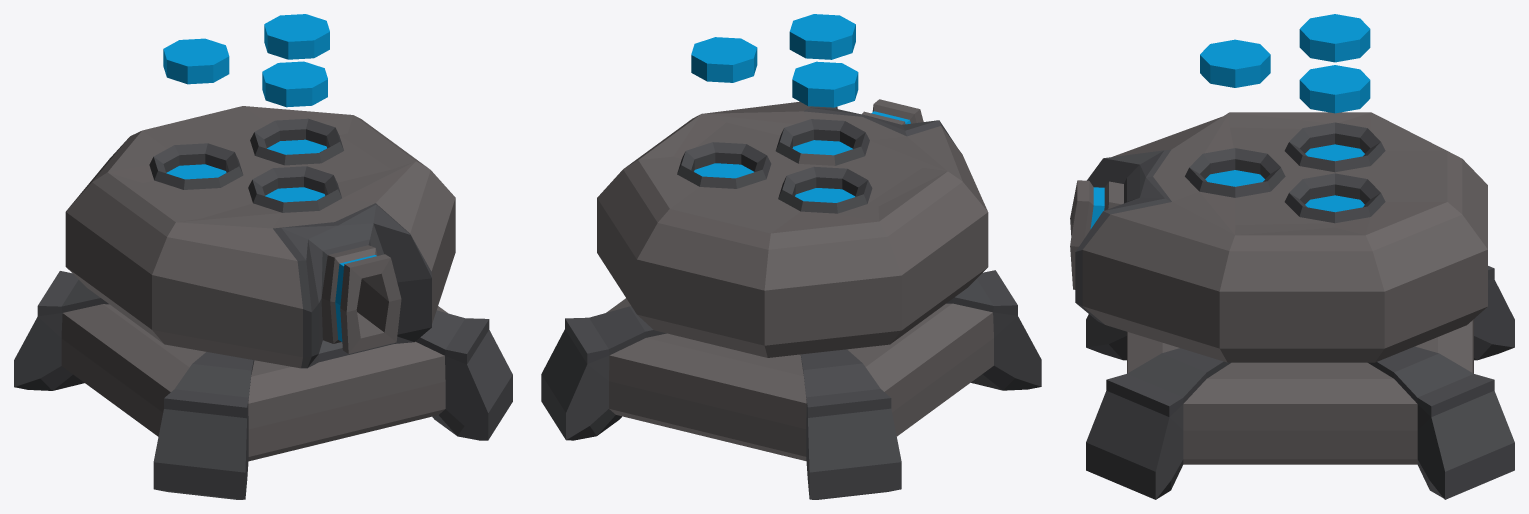
Rendered from Tourelle.fbx.
3 renders of one model, left to right at view 1: azimuth 30°, elevation 25°; view 2: azimuth 150°, elevation 25°; view 3: azimuth 270°, elevation 25°, orthographic. The views are drawn at different scales.
Parts seen in each view (by area): view 1: TourelleUp, Tourelle, TourellePart3, TourellePart1, TourellePart2; view 2: TourelleUp, Tourelle, TourellePart3, TourellePart1, TourellePart2; view 3: TourelleUp, Tourelle, TourellePart1, TourellePart3, TourellePart2.
Part boxes in pixels (x1,y1,x2,y2): TourelleUp: [65, 106, 455, 368]; Tourelle: [14, 271, 512, 499]; TourellePart3: [163, 38, 229, 84]; TourellePart1: [264, 14, 329, 59]; TourellePart2: [262, 61, 327, 107]; TourelleUp: [597, 99, 988, 357]; Tourelle: [541, 270, 1041, 499]; TourellePart3: [792, 61, 858, 107]; TourellePart1: [691, 37, 757, 82]; TourellePart2: [789, 14, 855, 59]; TourelleUp: [1070, 112, 1487, 362]; Tourelle: [1086, 266, 1514, 499]; TourellePart1: [1299, 65, 1370, 113]; TourellePart3: [1299, 14, 1370, 62]; TourellePart2: [1200, 39, 1270, 87].
Size of the model in its own units: 0.8678 by 0.803 by 0.8971.
